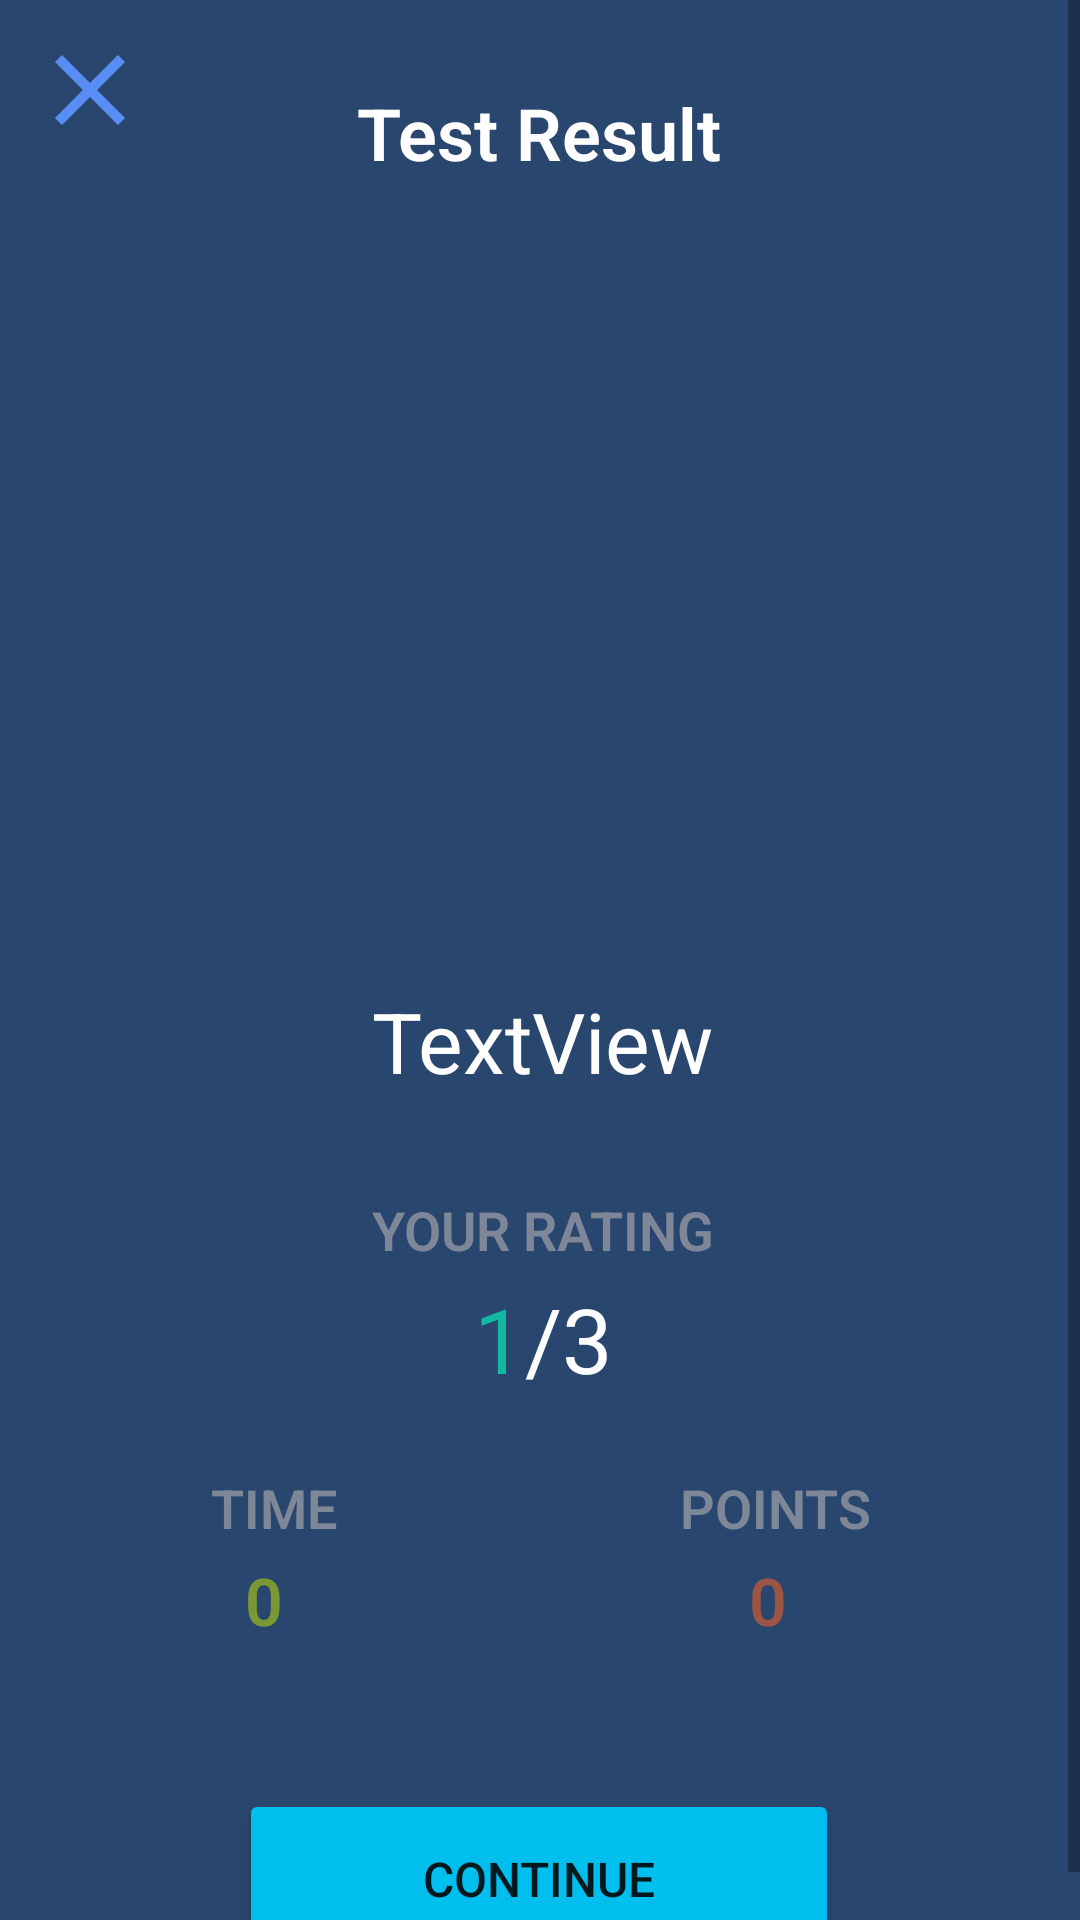

Screen size 1080 × 1920. Icon name, then its center in pixels as (x=x, y=y):
close step: (x=90, y=90)
